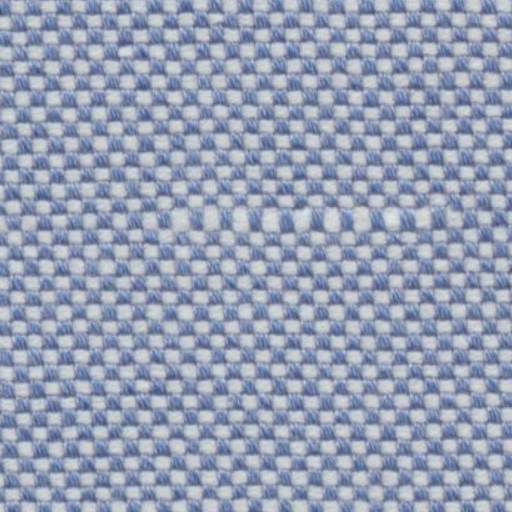DaiSha: (141, 183, 456, 248)
